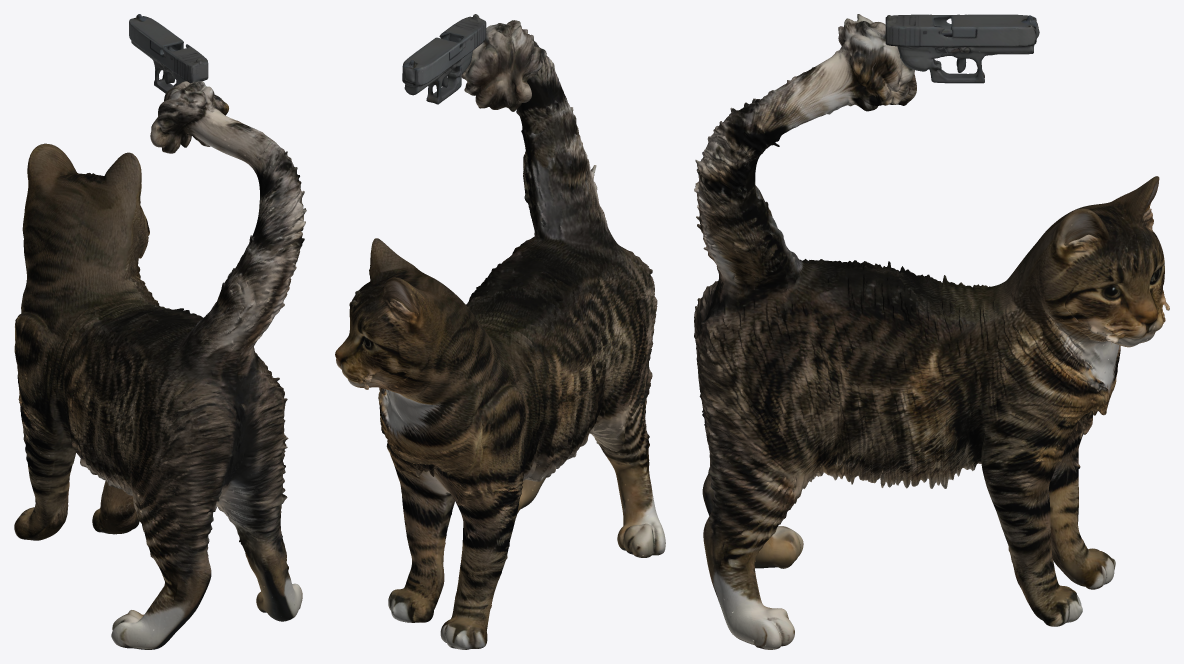
File: tripo_convert_a0d461f7-925a-45b9-ae96-d5688add0b6e.fbx
The picture shows the model from 3 angles, left to right: view 1: azimuth 30°, elevation 25°; view 2: azimuth 150°, elevation 25°; view 3: azimuth 270°, elevation 25°; orthographic projection. The views are drawn at different scales.
Visible parts, largest first — view 1: tripo_node_a0d461f7; view 2: tripo_node_a0d461f7; view 3: tripo_node_a0d461f7.
Boxes of the visible parts, bbox=[...] form: tripo_node_a0d461f7: bbox=[14, 14, 306, 649]; tripo_node_a0d461f7: bbox=[335, 14, 665, 649]; tripo_node_a0d461f7: bbox=[694, 14, 1169, 649].
Size of the model in its own units: 37.29 by 70.62 by 100.
Materials: 1 (1 with a texture image).
